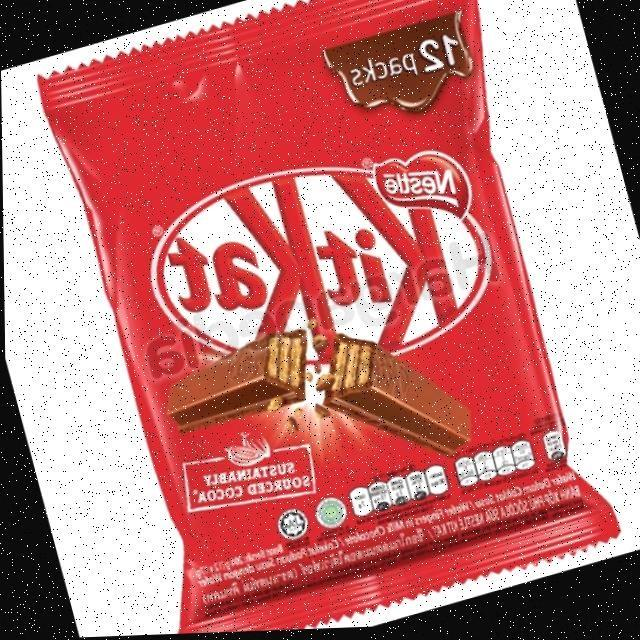kitkat_chocolate: (95, 45, 562, 605)
